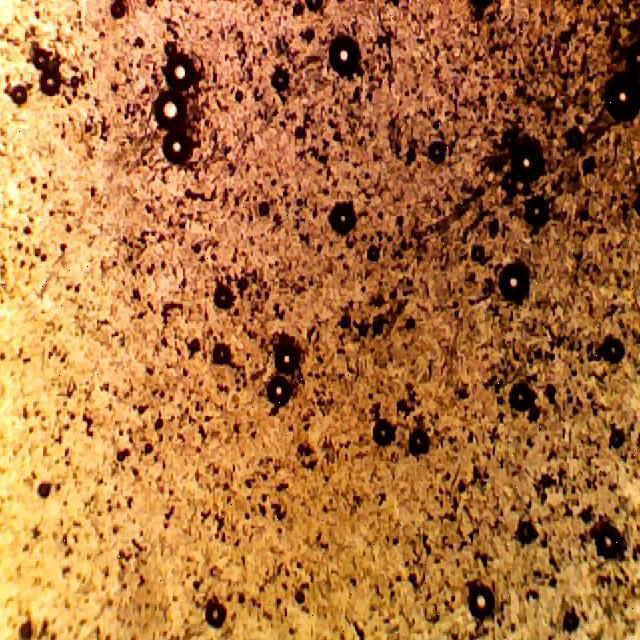microbeads: (324, 35, 364, 77), (507, 140, 545, 182), (160, 54, 198, 94), (159, 131, 195, 171), (593, 522, 625, 562), (272, 335, 302, 377), (468, 582, 496, 622), (328, 201, 358, 237), (200, 596, 228, 632), (211, 284, 239, 316)
